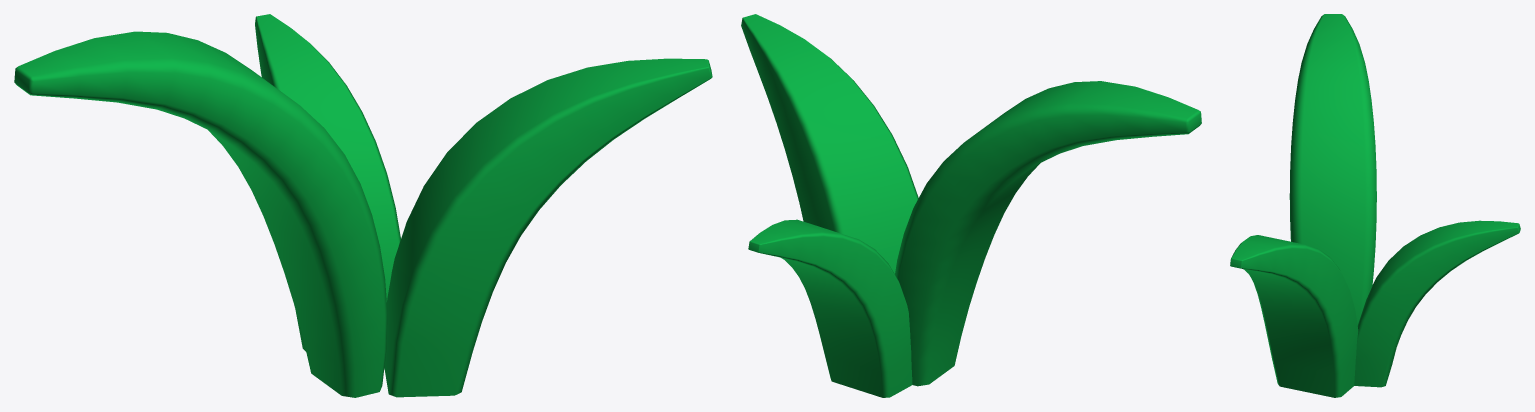
File: City_5_Grass_2.glb
3 renders of one model, left to right at view 1: azimuth 30°, elevation 25°; view 2: azimuth 150°, elevation 25°; view 3: azimuth 270°, elevation 25°, orthographic. The views are drawn at different scales.
Parts seen in each view (by area): view 1: City_5_Grass_2; view 2: City_5_Grass_2; view 3: City_5_Grass_2.
Part boxes in pixels (x1,y1,x2,y2): City_5_Grass_2: (14, 14, 712, 397); City_5_Grass_2: (741, 14, 1201, 397); City_5_Grass_2: (1230, 14, 1520, 397).
Bounding box in the file's own units: 0.8025 × 0.483 × 0.5087.
Materials: 1 (1 with a texture image).
